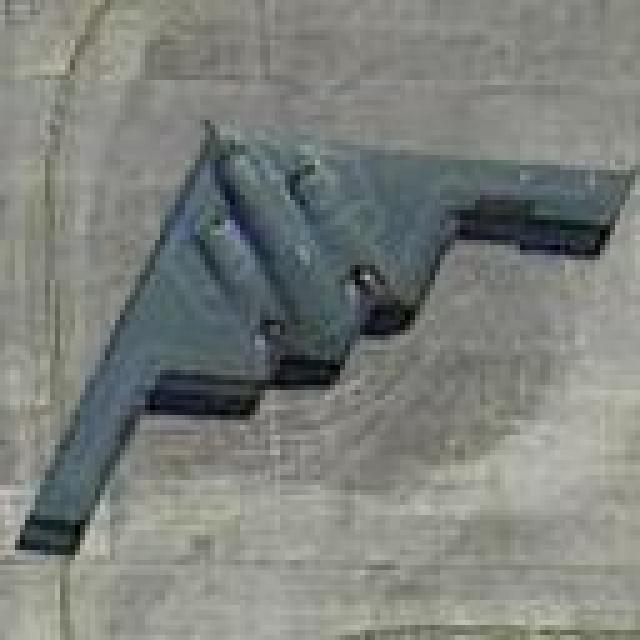B-2_TopDown: (10, 110, 635, 555)
